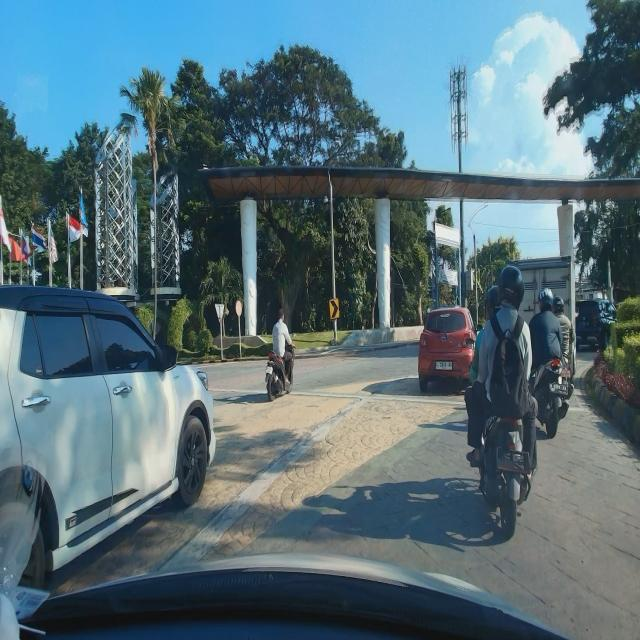car: (418, 306, 483, 393), (574, 296, 621, 353)
license-plate: (436, 361, 452, 370)
truck: (506, 254, 577, 382)
